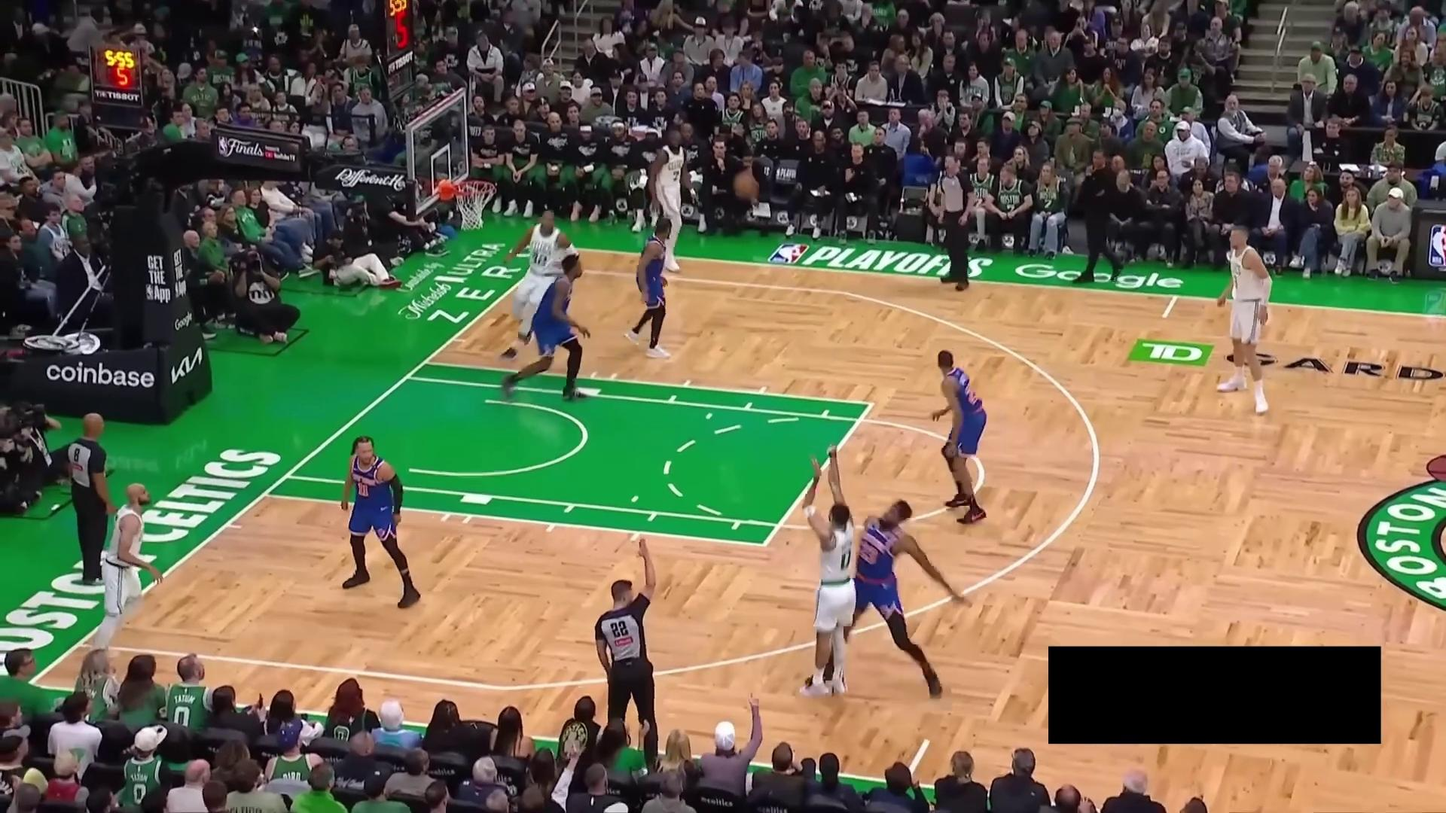ball: (732, 174, 758, 201)
number: (857, 542, 879, 565), (840, 546, 853, 571), (531, 252, 549, 268), (357, 481, 369, 497), (672, 169, 680, 181)
player: (804, 495, 977, 704), (335, 429, 426, 610), (86, 479, 169, 669), (496, 252, 594, 409), (492, 205, 582, 366), (1213, 218, 1278, 417), (926, 345, 992, 529), (644, 127, 696, 273), (627, 214, 678, 357)
player-jump-shot: (795, 440, 855, 704)
referee: (594, 533, 660, 753), (66, 411, 123, 585), (936, 150, 977, 294)
rim: (445, 177, 497, 198)
